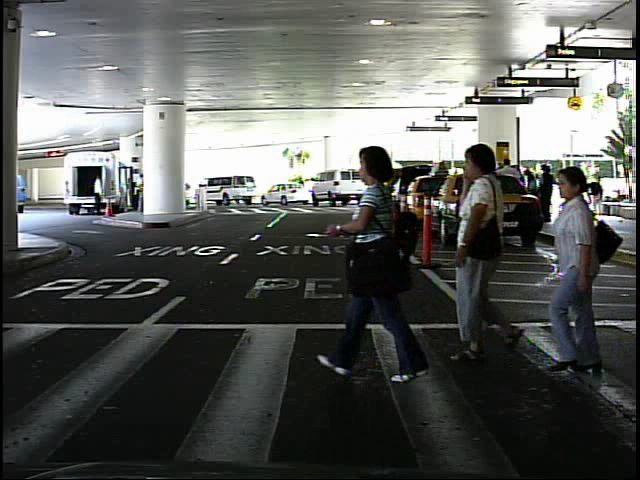person: (341, 134, 439, 387), (438, 136, 539, 368), (521, 171, 619, 378), (90, 170, 108, 220), (588, 172, 607, 218)
